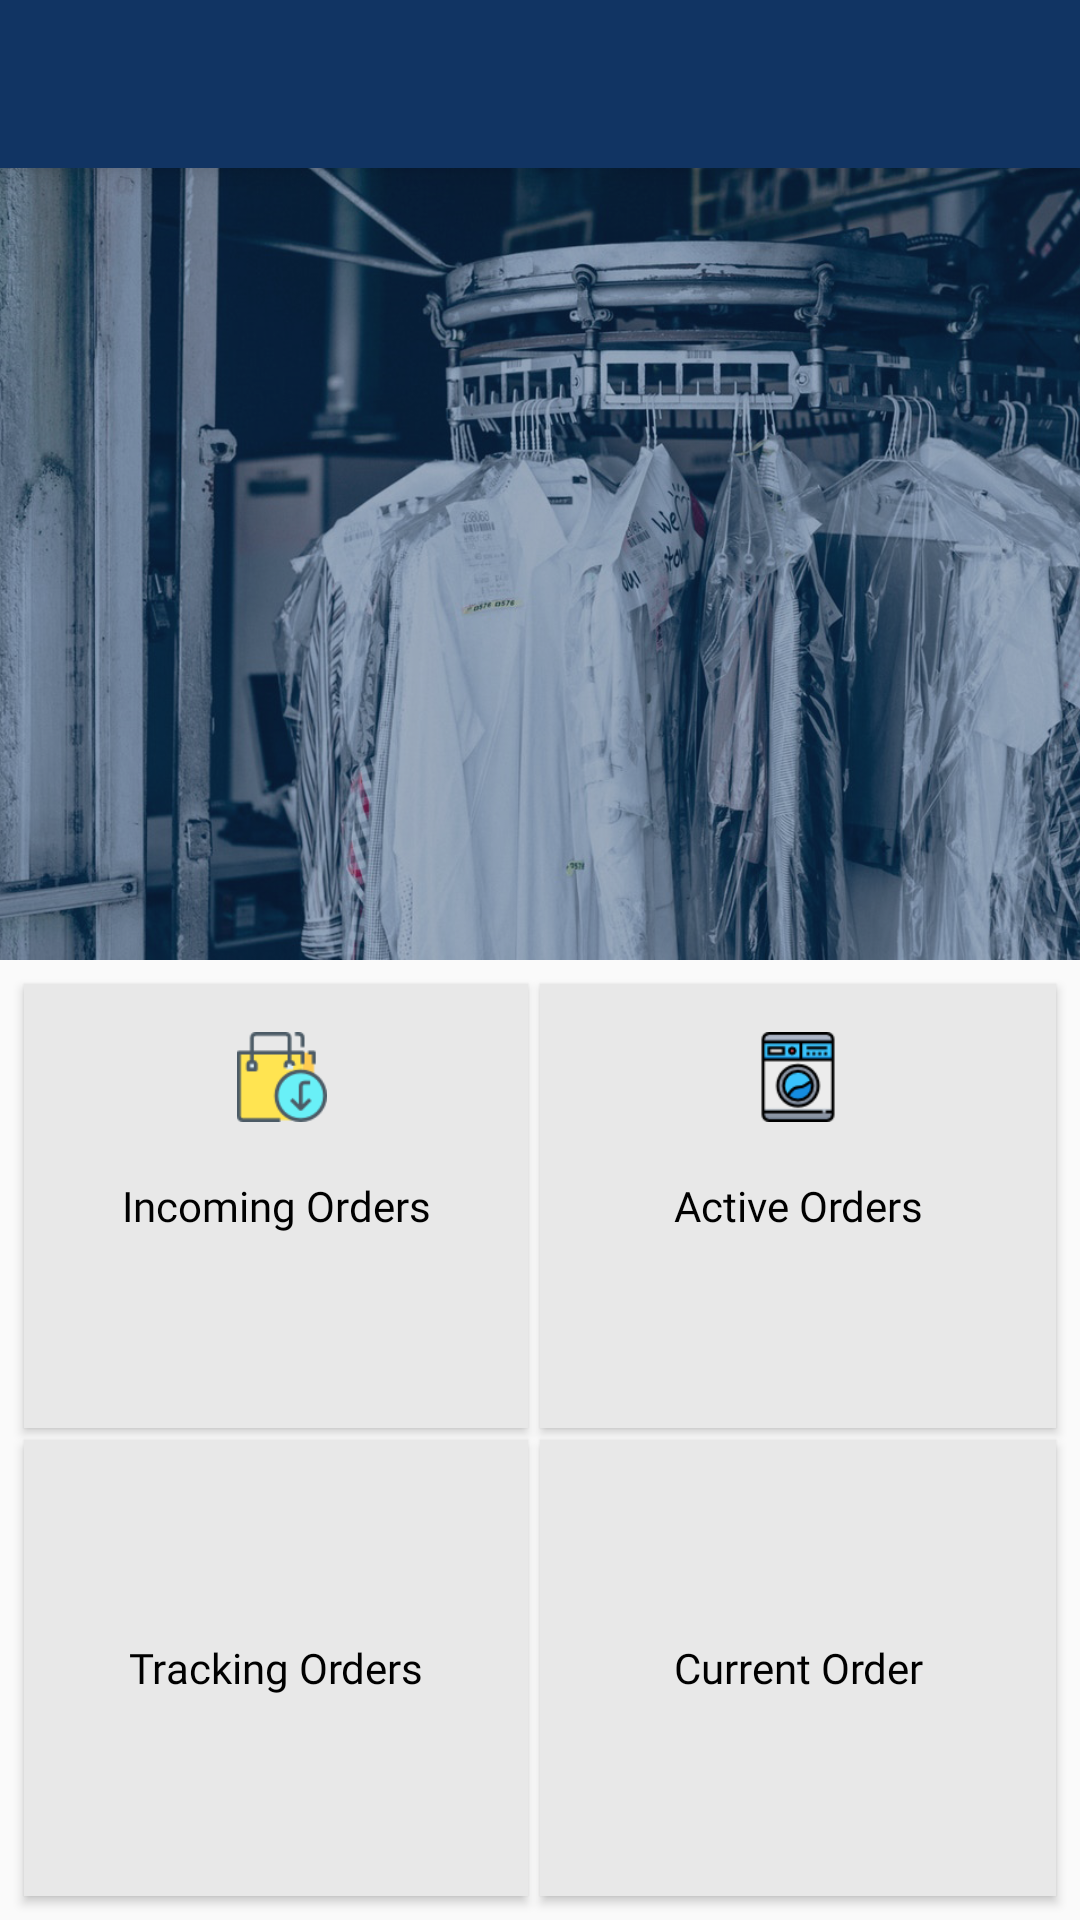

Where to tap for icons on this 1080w x 1920h app screen, as (x,y):
washing: (798,1077)
